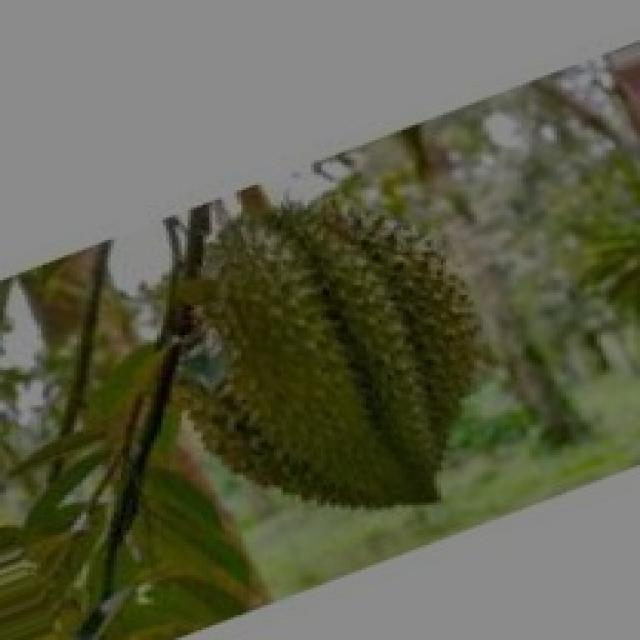fruit: (160, 158, 526, 558)
